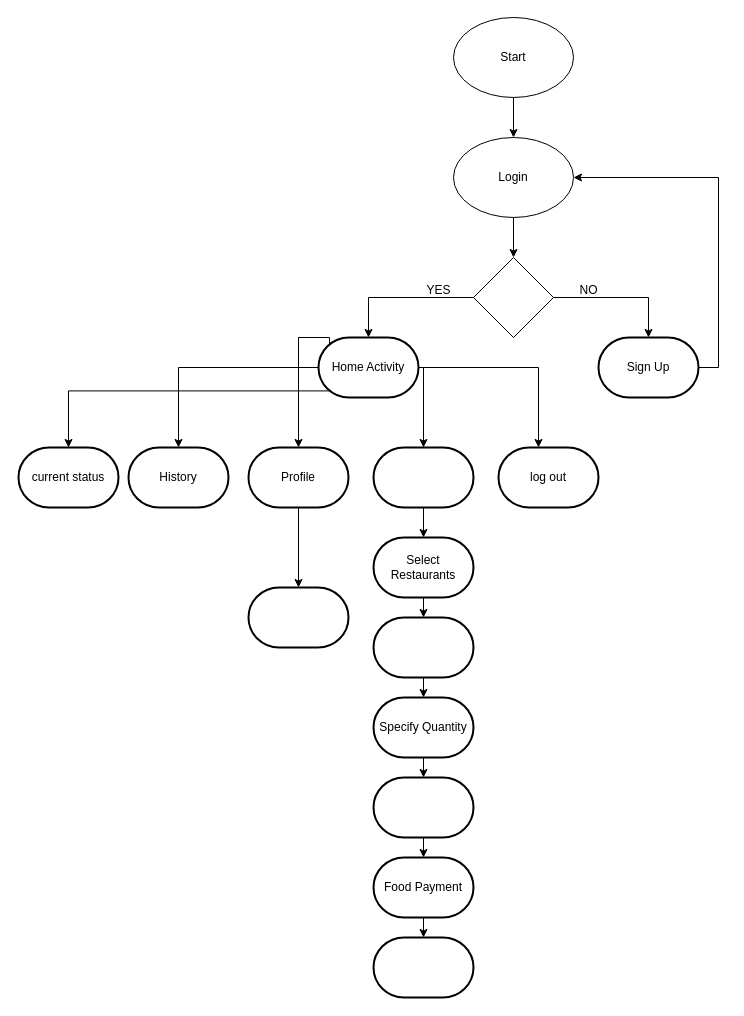
Image size: 744x1016. Some labels were removed from this diagram. Each missing label, with the box of its shape:
Address and Phone Number details: (372, 776, 474, 838)
Order Confirm: (372, 936, 474, 998)
Registered: (472, 256, 554, 338)
Restaurants and menu: (372, 446, 474, 508)
Select Food Items: (372, 616, 474, 678)
update profile: (247, 586, 349, 648)
